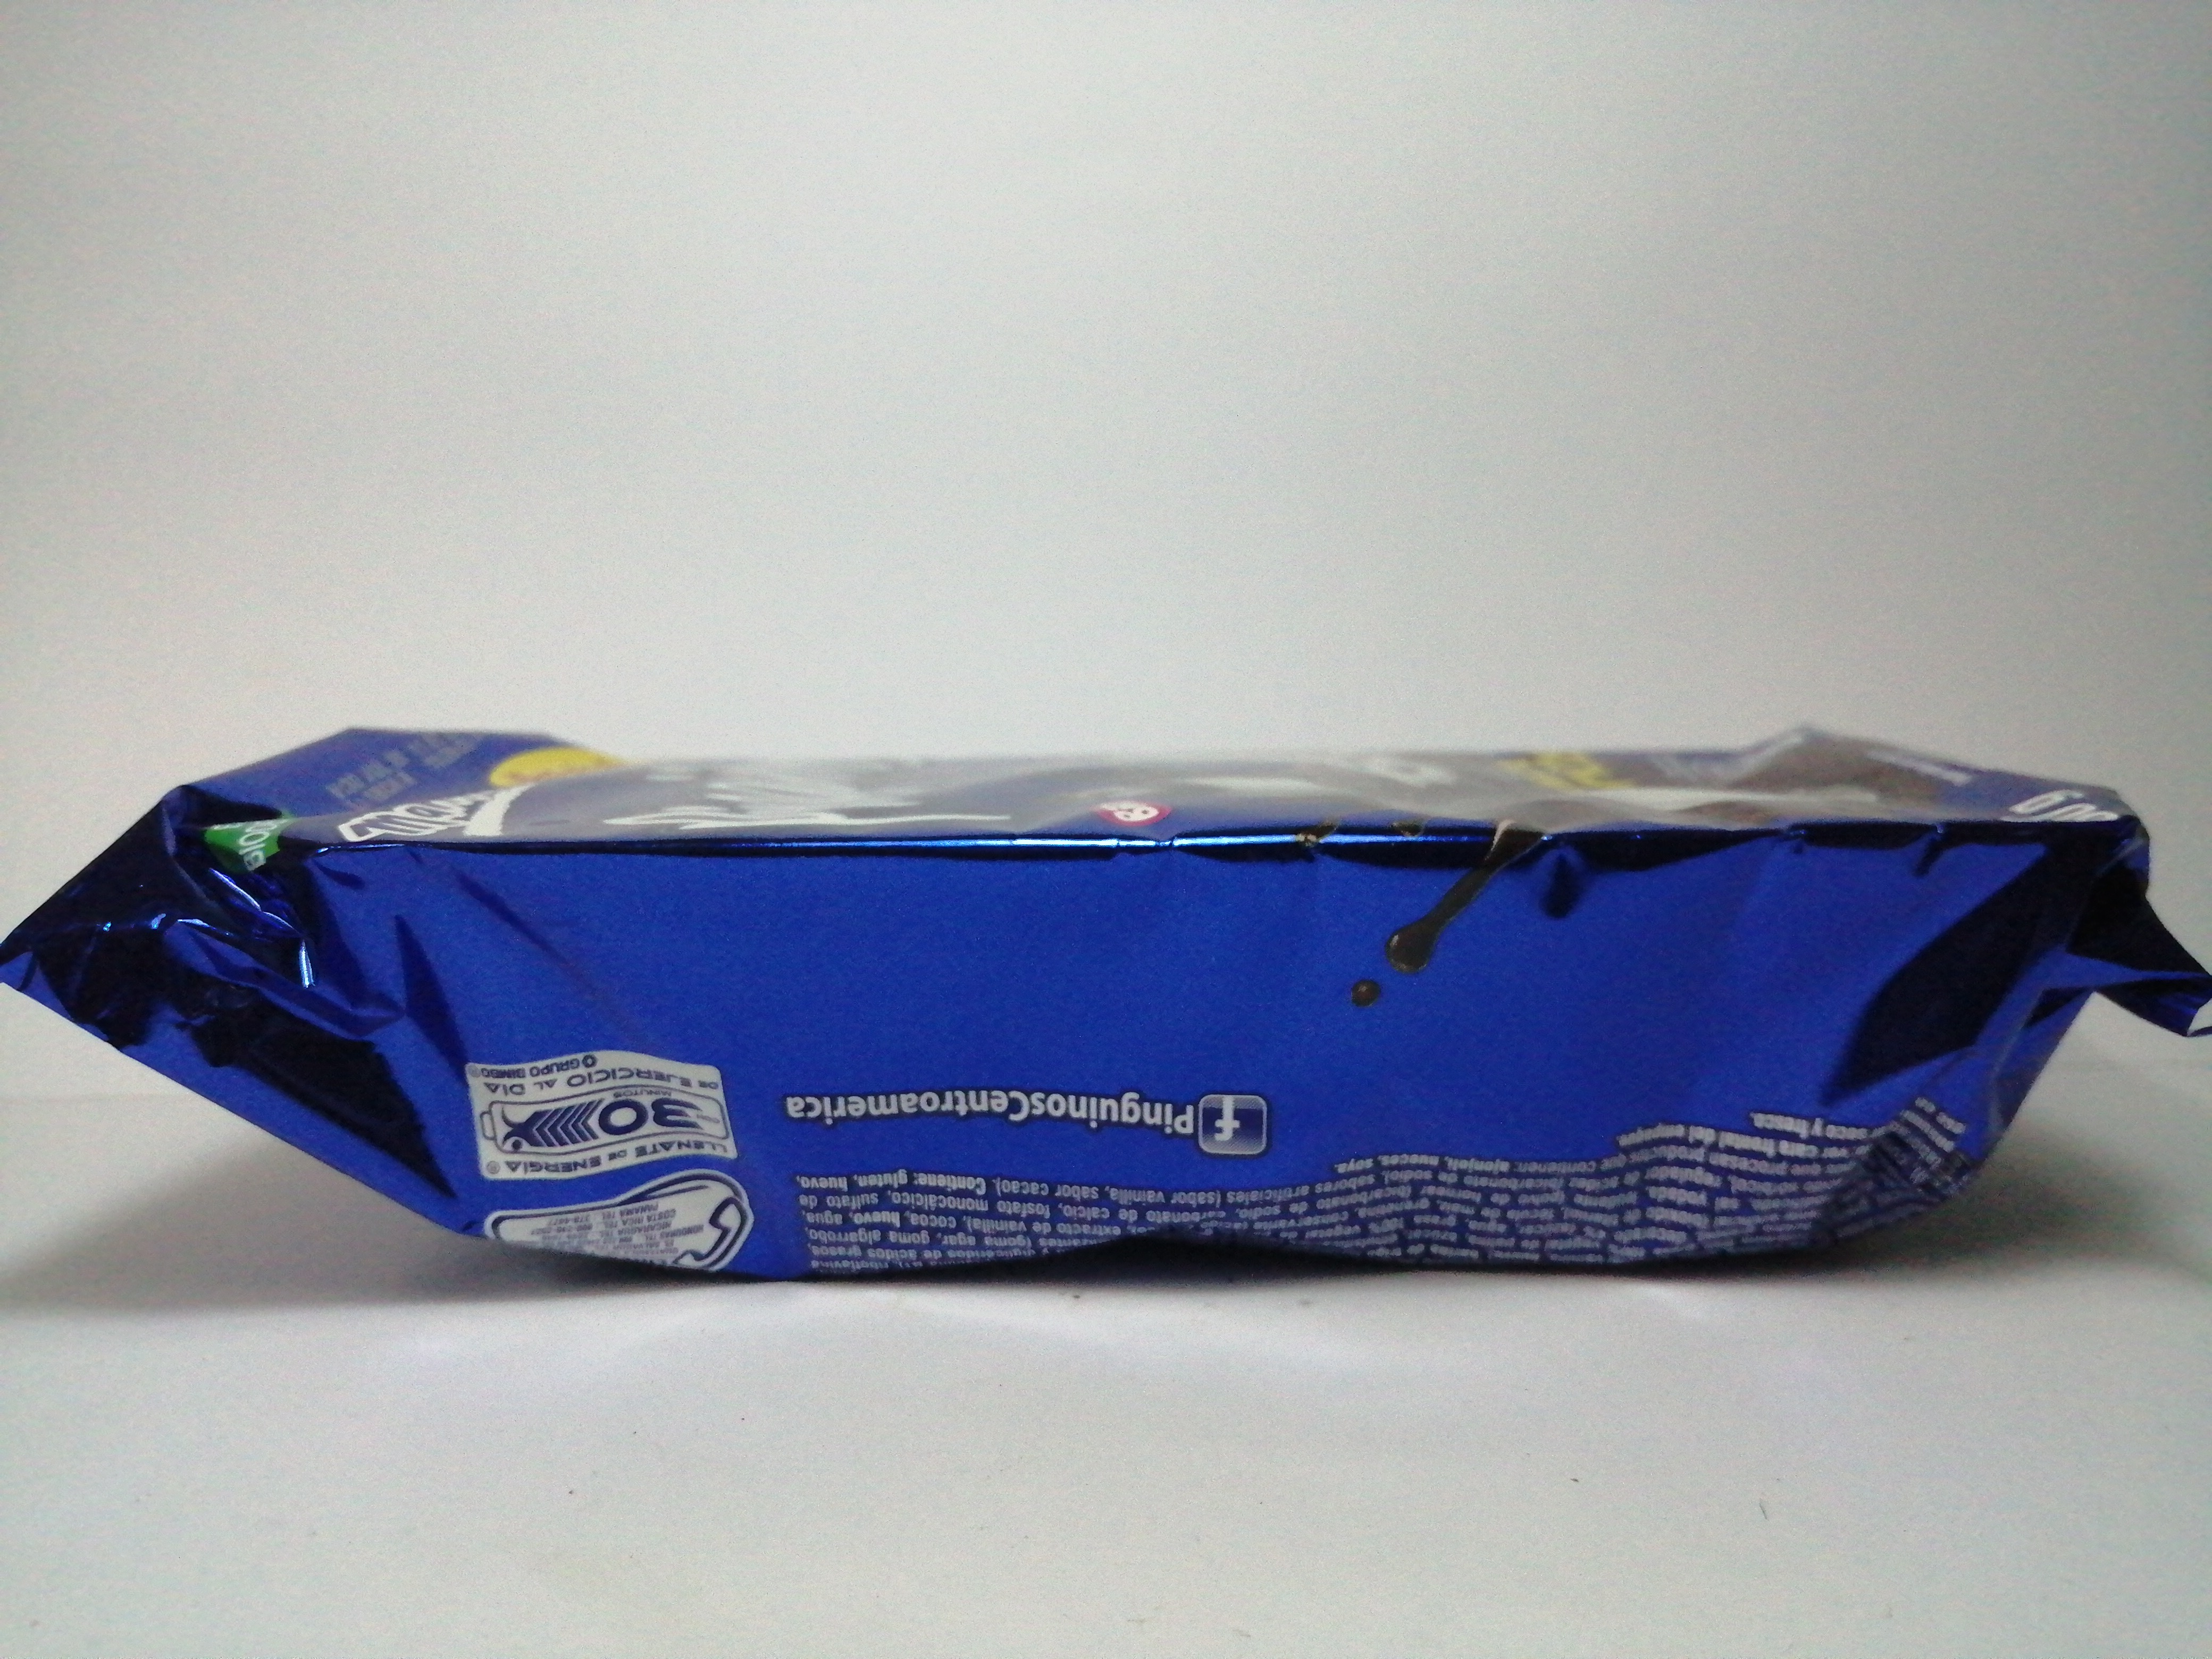pinguino: (23, 728, 2170, 1284)
